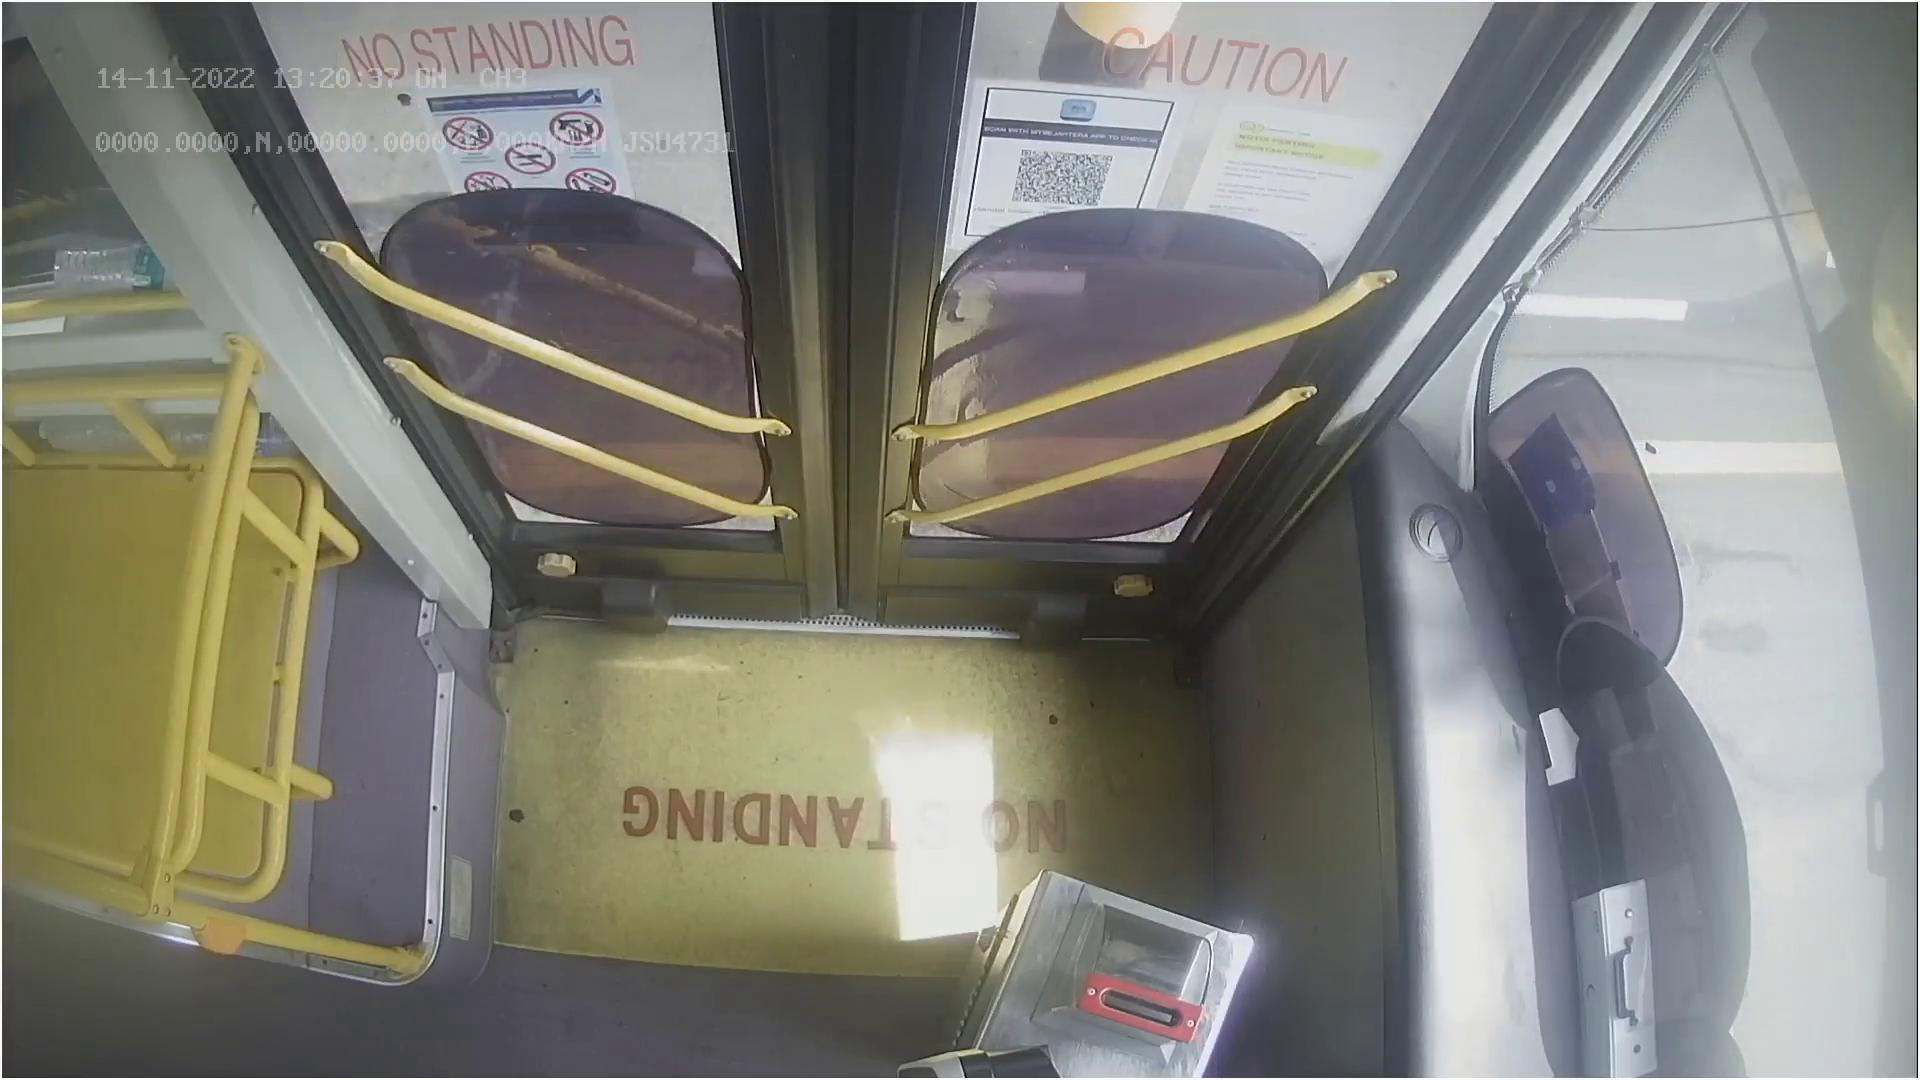close: (289, 0, 1452, 141)
